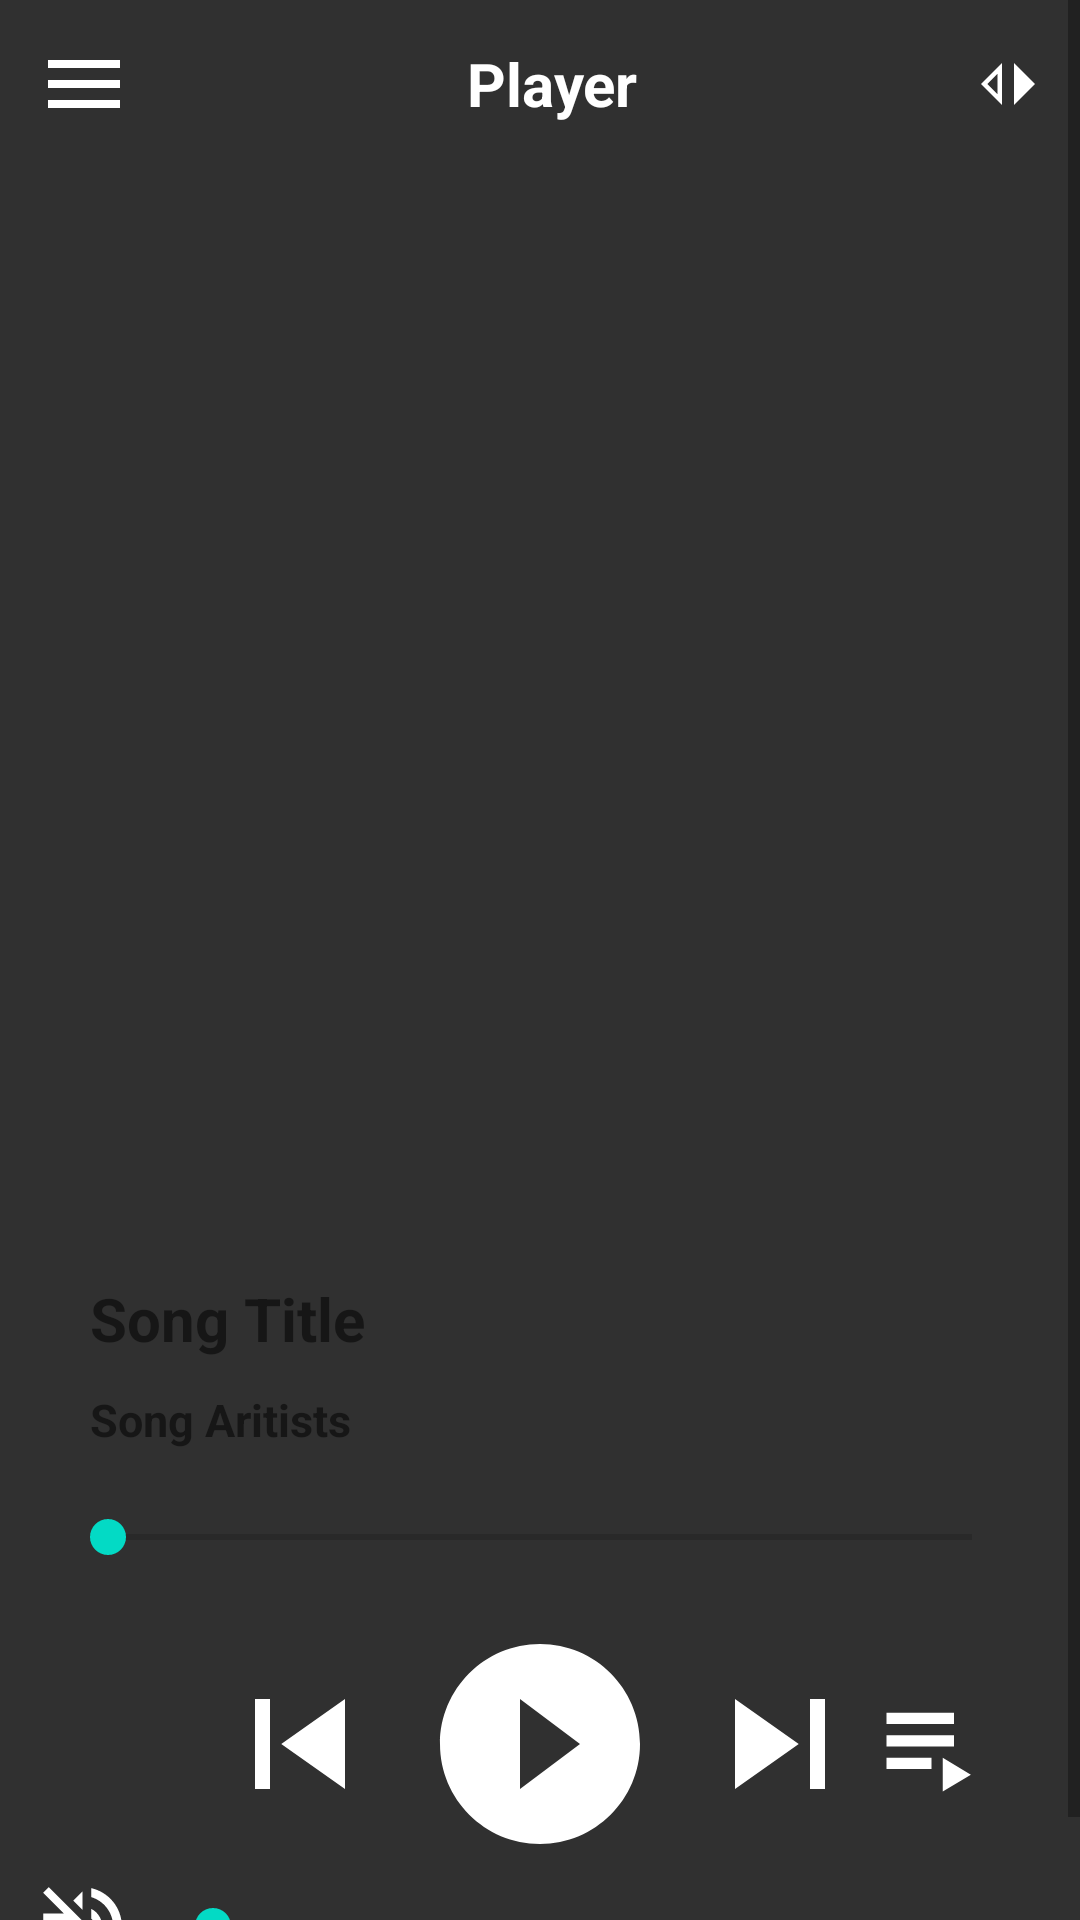

Icons on this 1080×1920 Android screen, each with its box as rect(x1, y1, x2, y2):
menu: rect(48, 60, 120, 108)
next: rect(735, 1699, 825, 1789)
play: rect(440, 1644, 640, 1844)
playlist play: rect(886, 1712, 971, 1791)
pre: rect(255, 1699, 345, 1789)
switch: rect(981, 63, 1035, 105)
